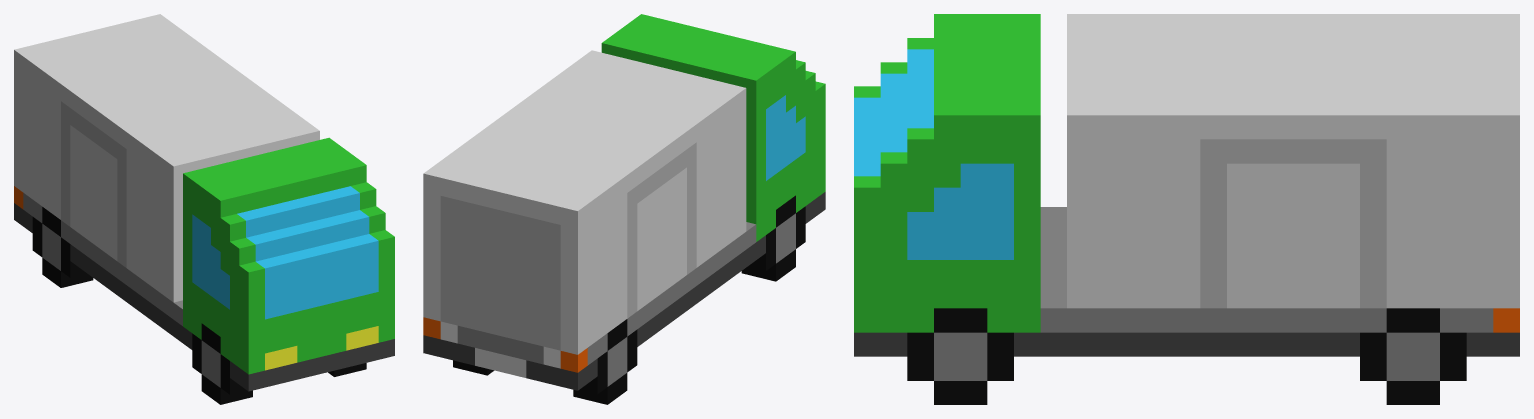
File: Truck.fbx
The picture shows the model from 3 angles, left to right: view 1: azimuth 30°, elevation 25°; view 2: azimuth 150°, elevation 25°; view 3: azimuth 270°, elevation 25°; orthographic projection. The views are drawn at different scales.
Visible parts, largest first — view 1: 立方体.1984, 立方体.1363, 立方体.1786, 立方体.1579, 立方体.2020, 立方体.049, 立方体.274, 立方体.1147, 立方体.1987, 立方体.1990, 立方体.499, 立方体.715 (+35 smaller); view 2: 立方体.2164, 立方体.2011, 立方体.1354, 立方体.1138, 立方体.265, 立方体.1570, 立方体.490, 立方体.922, 立方体.1777, 立方体.1975, 立方体.706, 立方体.2167 (+33 smaller); view 3: 立方体.1587, 立方体.2001, 立方体.2037, 立方体.2064, 立方体.2091, 立方体.2136, 立方体.2163, 立方体.1371, 立方体.1794, 立方体.1992, 立方体.2010, 立方体.2019 (+236 smaller).
Boxes of the visible parts, box(x1,y1,x2,y2) form: 立方体.1984: box(211, 190, 236, 217); 立方体.1363: box(239, 261, 264, 289); 立方体.1786: box(220, 214, 245, 241); 立方体.1579: box(230, 238, 255, 265); 立方体.2020: box(164, 155, 189, 183); 立方体.049: box(239, 368, 264, 391); 立方体.274: box(239, 351, 264, 374); 立方体.1147: box(239, 283, 264, 306); 立方体.1987: box(260, 178, 285, 205); 立方体.1990: box(309, 166, 334, 193); 立方体.499: box(239, 334, 264, 357); 立方体.715: box(239, 317, 264, 340); 立方体.2164: box(560, 200, 587, 228); 立方体.2011: box(739, 69, 765, 98); 立方体.1354: box(560, 276, 587, 300); 立方体.1138: box(560, 294, 587, 318); 立方体.265: box(560, 366, 587, 390); 立方体.1570: box(560, 258, 587, 282); 立方体.490: box(560, 348, 587, 372); 立方体.922: box(560, 312, 587, 336); 立方体.1777: box(560, 240, 587, 264); 立方体.1975: box(560, 222, 587, 246); 立方体.706: box(560, 330, 587, 354); 立方体.2167: box(509, 187, 535, 216); 立方体.1587: box(880, 152, 907, 187); 立方体.2001: box(960, 104, 987, 139); 立方体.2037: box(1093, 104, 1120, 139); 立方体.2064: box(1173, 104, 1200, 139); 立方体.2091: box(1253, 104, 1280, 139); 立方体.2136: box(1386, 104, 1413, 139); 立方体.2163: box(1466, 104, 1493, 139); 立方体.1371: box(854, 176, 880, 211); 立方体.1794: box(907, 128, 933, 163); 立方体.1992: box(934, 104, 960, 139); 立方体.2010: box(987, 104, 1013, 139); 立方体.2019: box(1014, 104, 1040, 139).
Bounding box in the file's own units: 900 × 1200 × 2500.
